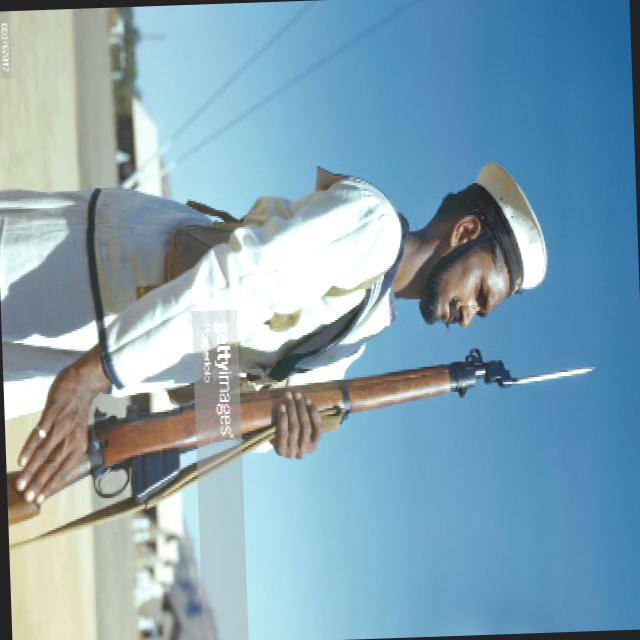long weapon: (2, 332, 610, 525)
